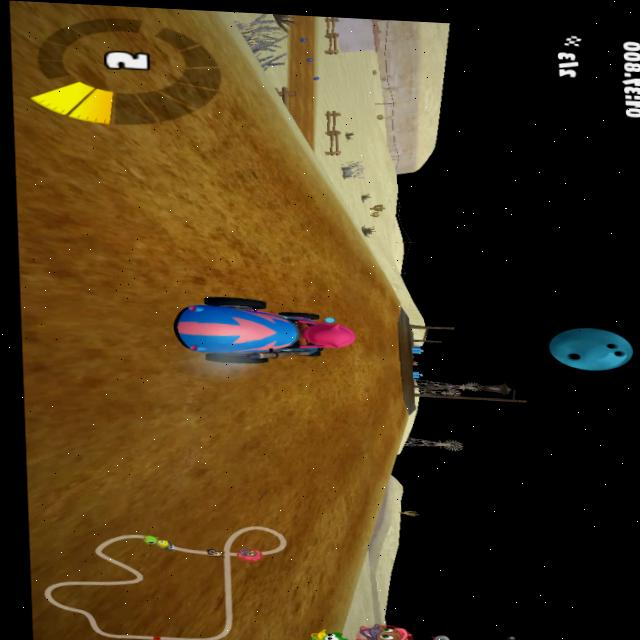bonus: (408, 344, 426, 355), (406, 370, 423, 381)
player_kart: (162, 294, 349, 366)
track: (13, 351, 328, 640), (4, 0, 161, 357), (144, 52, 266, 298), (258, 154, 342, 304), (351, 223, 380, 536), (322, 365, 347, 623), (373, 266, 411, 420), (342, 368, 364, 591), (264, 96, 300, 152), (378, 416, 403, 468)
